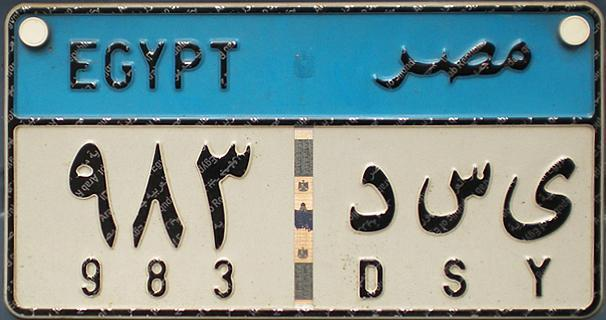3: (194, 143, 258, 248)
8: (128, 138, 190, 250)
9: (67, 135, 123, 251)
daal: (342, 158, 397, 241)
seen: (410, 153, 492, 236)
yaa: (495, 148, 587, 242)
